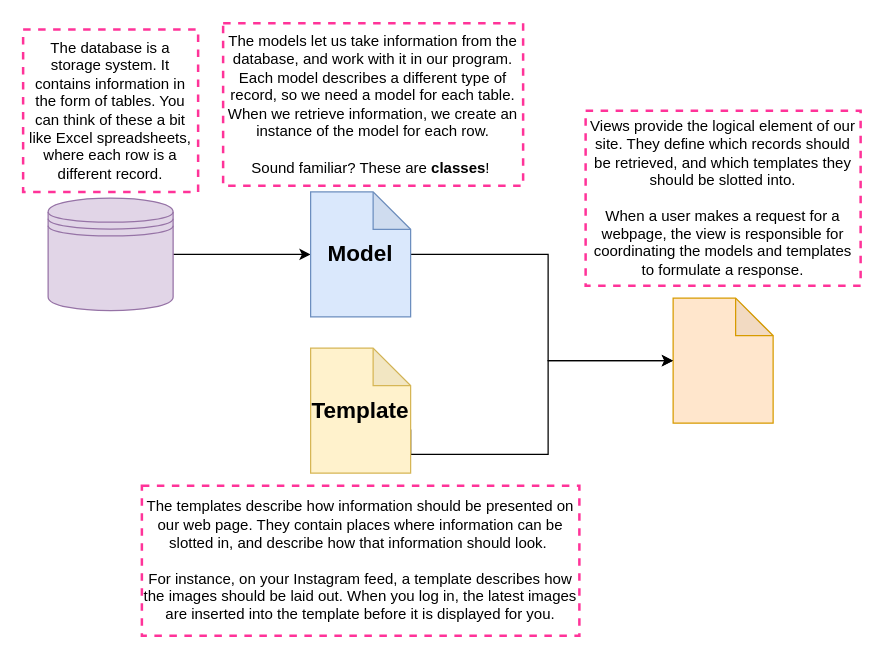
Some shapes in this 883 by 658 pixel diagram are drawn without their labels. The shapes that lost their labels are listed below. From the top down, each one's centre as x and y in pixels, then its label:
point 110,254: Database
point 722,360: View
